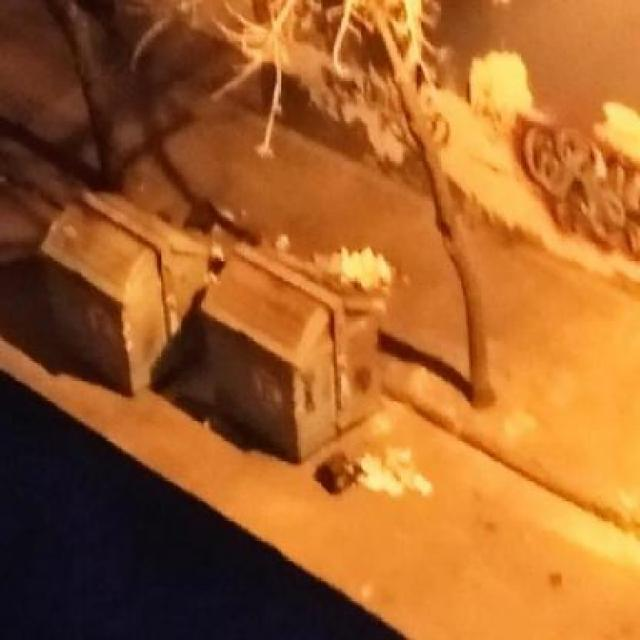garbage: (25, 174, 448, 512)
